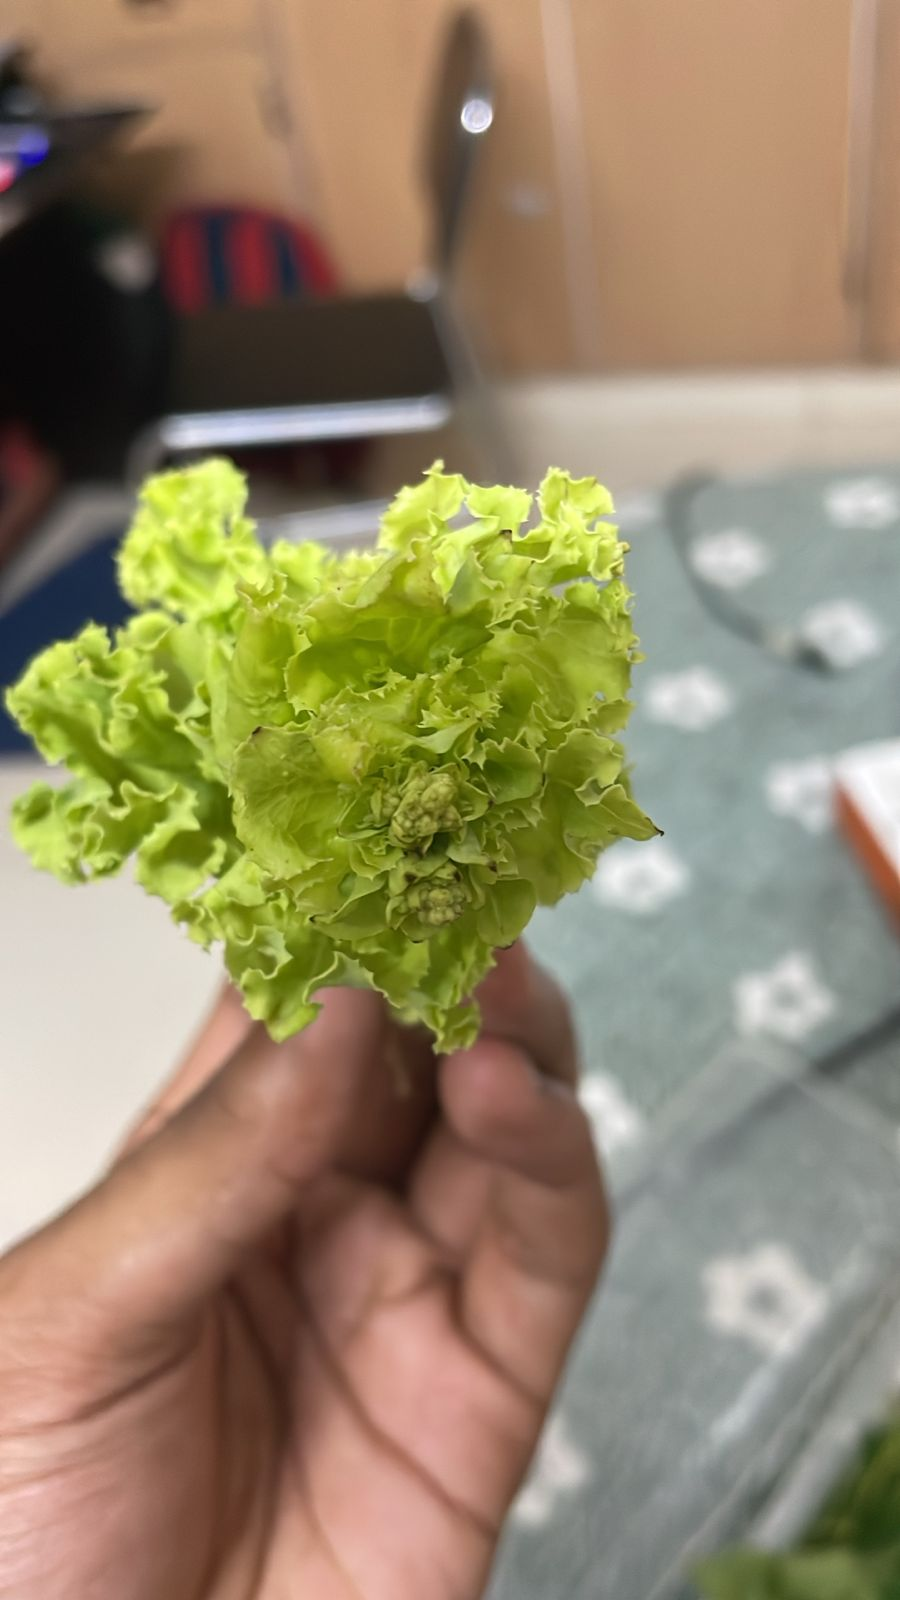wet: (1, 462, 616, 949)
